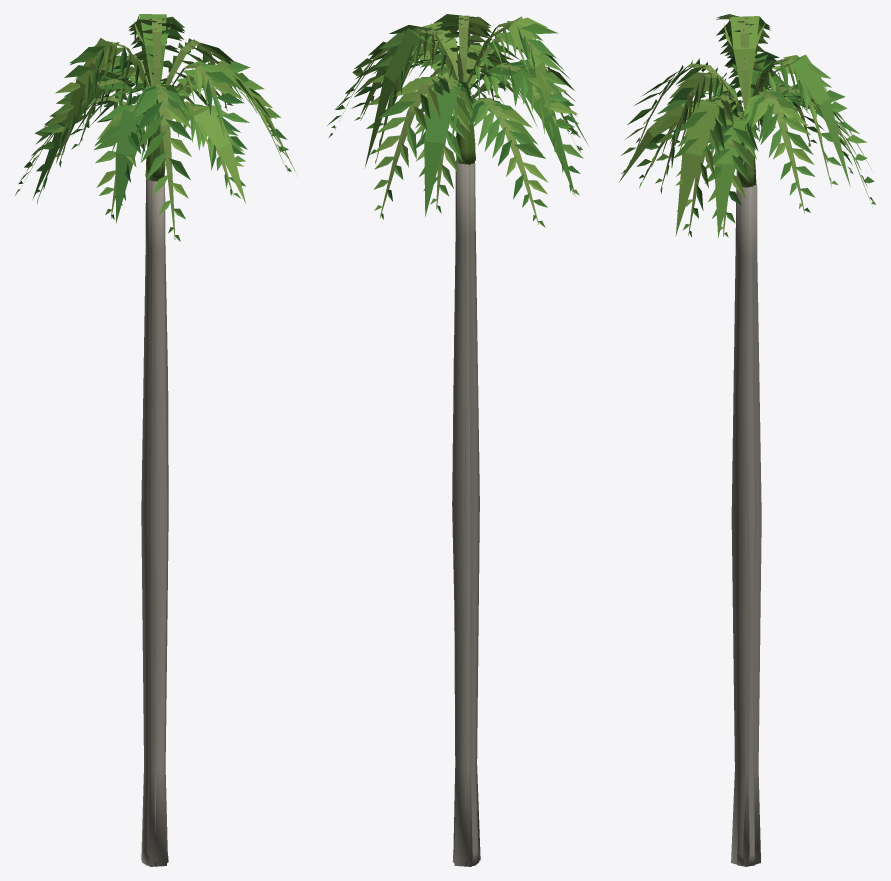
The model's file is sg-royal-palm.glb.
3 renders of one model, left to right at view 1: azimuth 30°, elevation 25°; view 2: azimuth 150°, elevation 25°; view 3: azimuth 270°, elevation 25°, orthographic. The views are drawn at different scales.
Parts seen in each view (by area): view 1: lod0_fronds, lod0_trunk, lod1_trunk, lod1_fronds; view 2: lod0_fronds, lod1_trunk, lod1_fronds, lod0_trunk, lod0_crownshaft; view 3: lod0_fronds, lod0_trunk, lod1_trunk, lod1_fronds.
Boxes of the visible parts, box(x1,y1,x2,y2) form: lod0_fronds: box(15, 16, 291, 241); lod0_trunk: box(142, 177, 168, 866); lod1_trunk: box(141, 177, 166, 866); lod1_fronds: box(32, 14, 297, 223); lod0_fronds: box(327, 14, 583, 227); lod1_trunk: box(453, 161, 480, 866); lod1_fronds: box(360, 16, 588, 216); lod0_trunk: box(452, 160, 479, 866); lod0_crownshaft: box(456, 119, 475, 163); lod0_fronds: box(621, 14, 875, 237); lod0_trunk: box(736, 187, 756, 866); lod1_trunk: box(731, 185, 761, 866); lod1_fronds: box(619, 16, 871, 237).
Size of the model in its own units: 5 by 17 by 4.84.
